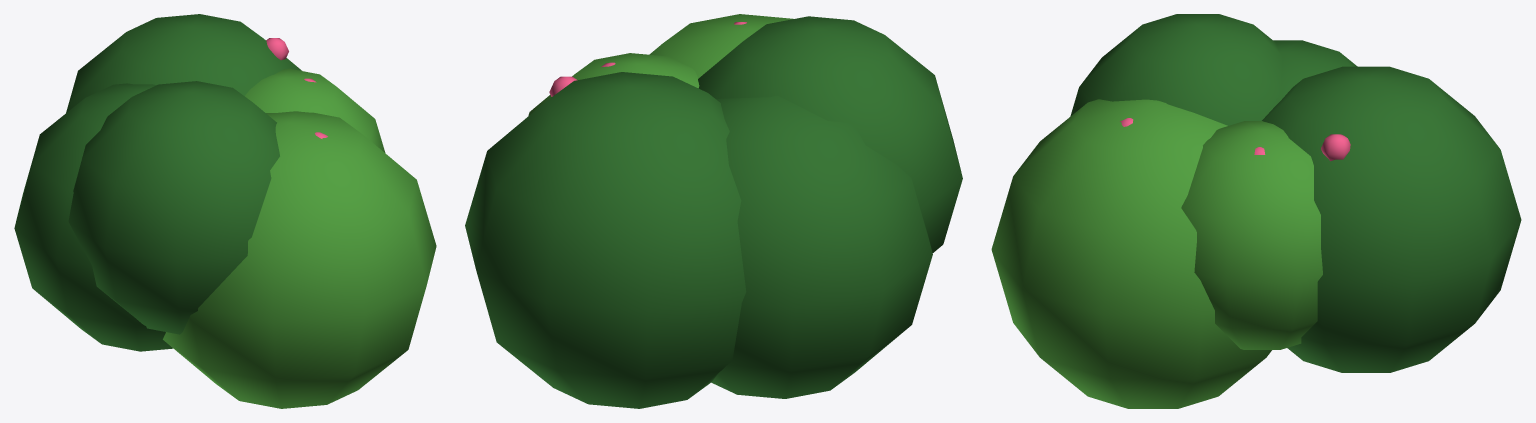
Rendered from prop_semak_b.glb.
The picture shows the model from 3 angles, left to right: view 1: azimuth 30°, elevation 25°; view 2: azimuth 150°, elevation 25°; view 3: azimuth 270°, elevation 25°; orthographic projection. The views are drawn at different scales.
Visible parts, largest first — view 1: semak_b; view 2: semak_b; view 3: semak_b.
Part boxes in pixels (box(x1,y1,x2,y2)): semak_b: box(14, 14, 436, 408); semak_b: box(465, 14, 962, 408); semak_b: box(991, 14, 1521, 408).
Size of the model in its own units: 1.54 by 1.37 by 2.
